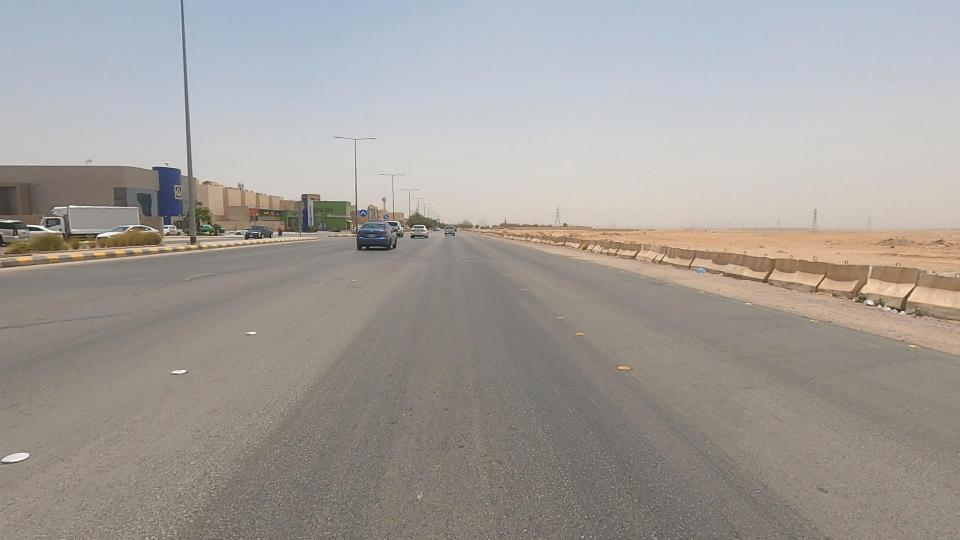GARBAGE: (809, 274, 944, 338), (671, 235, 743, 307)
